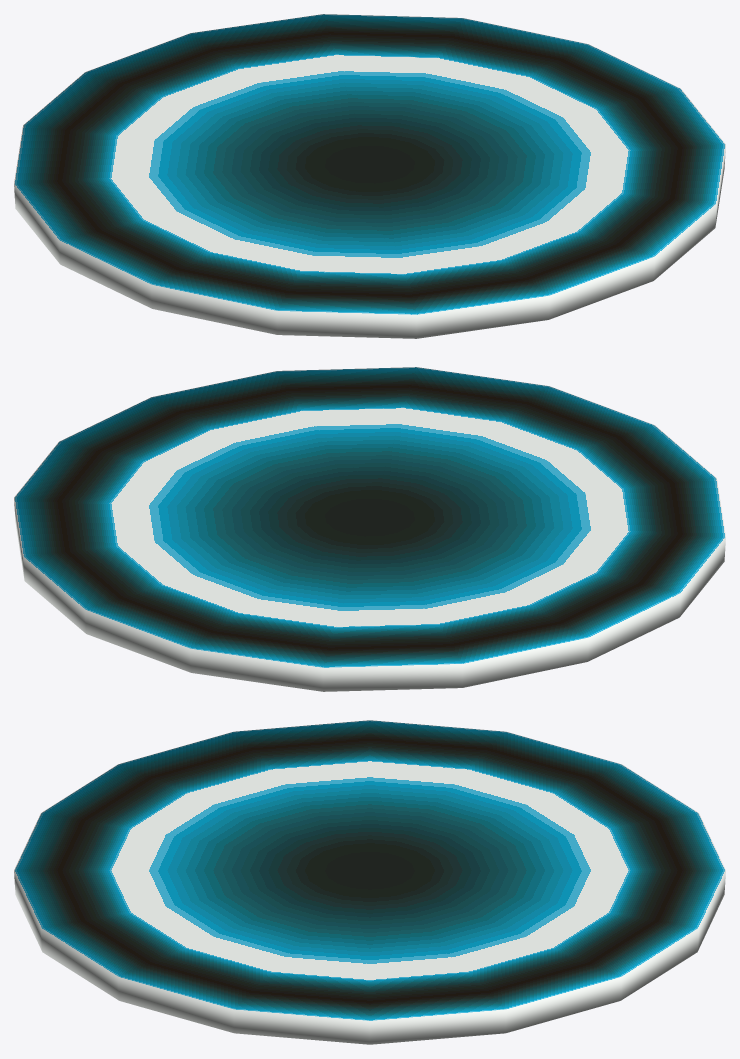
Rendered from Teleboard.glb.
3 views of the same model, one above another, from view 1: azimuth 30°, elevation 25°; view 2: azimuth 150°, elevation 25°; view 3: azimuth 270°, elevation 25° (orthographic).
Parts seen in each view (by area): view 1: Teleboard; view 2: Teleboard; view 3: Teleboard.
Boxes of the visible parts, x1,y1,x2,y2 form: Teleboard: (14, 14, 725, 338); Teleboard: (14, 367, 725, 691); Teleboard: (14, 720, 725, 1044).
Bounding box in the file's own units: 6.94 × 0.6243 × 6.94.
1 material, 1 textured.
